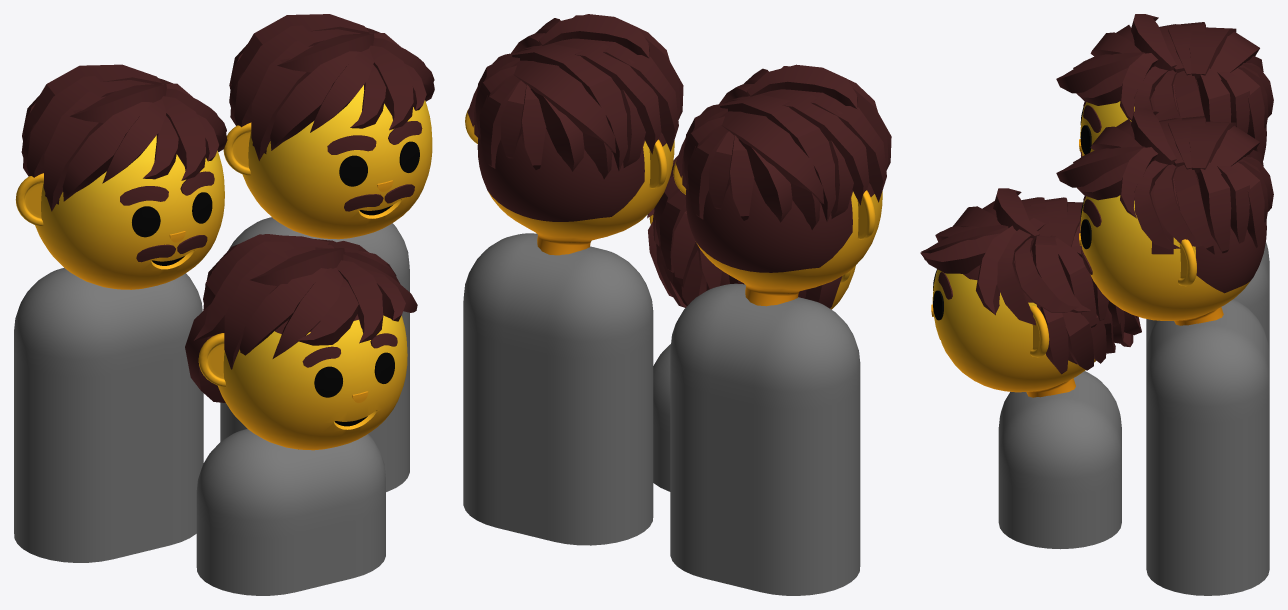
Rendered from family_man_man_boy.glb.
3 renders of one model, left to right at view 1: azimuth 30°, elevation 25°; view 2: azimuth 150°, elevation 25°; view 3: azimuth 270°, elevation 25°, orthographic. The views are drawn at different scales.
Visible parts, largest first — view 1: Sphere.274, Sphere.273, Cube.4081, Cube.4113, Cube.4135, Roundcube.328, Roundcube.329, Roundcube.330, Sphere.275, Circle.1451, Circle.1455, Circle.1448 (+8 smaller); view 2: Sphere.275, Sphere.274, Cube.4135, Cube.4113, Roundcube.330, Roundcube.329, Cube.4081, Sphere.273, Cylinder.060, Cylinder.061; view 3: Sphere.275, Cube.4135, Cube.4081, Sphere.273, Cube.4113, Roundcube.330, Roundcube.328, Sphere.274, Roundcube.329, Cylinder.059, Cylinder.061.
Boxes of the visible parts, bbox=[...] form: Sphere.274: bbox=[14, 268, 203, 562]; Sphere.273: bbox=[196, 429, 385, 595]; Cube.4081: bbox=[185, 234, 417, 402]; Cube.4113: bbox=[21, 64, 227, 211]; Cube.4135: bbox=[229, 14, 434, 160]; Roundcube.328: bbox=[218, 314, 407, 450]; Roundcube.329: bbox=[35, 135, 224, 289]; Roundcube.330: bbox=[242, 85, 432, 239]; Sphere.275: bbox=[220, 217, 409, 491]; Circle.1451: bbox=[132, 192, 212, 237]; Circle.1455: bbox=[339, 141, 419, 186]; Circle.1448: bbox=[314, 352, 394, 397]; Sphere.275: bbox=[463, 233, 653, 545]; Sphere.274: bbox=[670, 283, 860, 595]; Cube.4135: bbox=[467, 14, 683, 179]; Cube.4113: bbox=[675, 64, 891, 229]; Roundcube.330: bbox=[477, 128, 674, 255]; Roundcube.329: bbox=[685, 179, 882, 306]; Cube.4081: bbox=[647, 155, 842, 308]; Sphere.273: bbox=[653, 344, 670, 491]; Cylinder.060: bbox=[673, 160, 875, 239]; Cylinder.061: bbox=[465, 108, 666, 188]; Sphere.275: bbox=[1146, 299, 1269, 595]; Cube.4135: bbox=[1056, 108, 1273, 254]; Cube.4081: bbox=[920, 188, 1141, 374]; Sphere.273: bbox=[998, 371, 1121, 549]; Cube.4113: bbox=[1056, 14, 1273, 151]; Roundcube.330: bbox=[1080, 161, 1266, 325]; Roundcube.328: bbox=[932, 250, 1095, 397]; Sphere.274: bbox=[1146, 242, 1269, 354]; Roundcube.329: bbox=[1080, 67, 1266, 160]; Cylinder.059: bbox=[1030, 306, 1049, 357]; Cylinder.061: bbox=[1177, 239, 1196, 286].
Bounding box in the file's own units: 2.35 × 2.58 × 1.9.
1 material, 1 textured.
